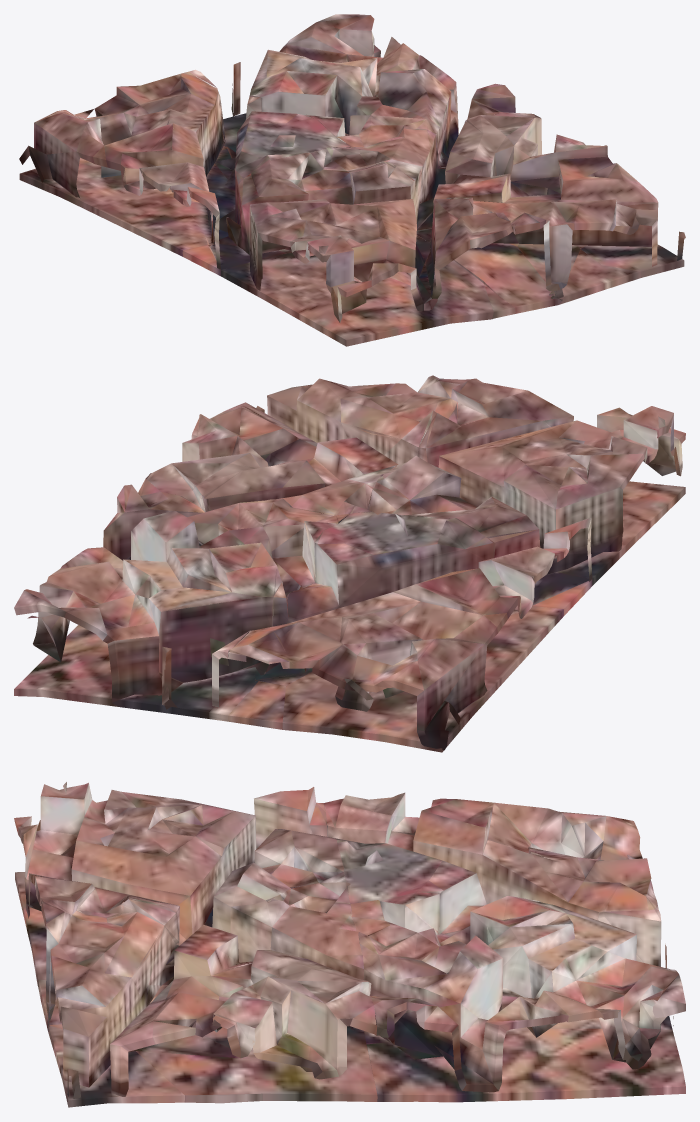
3 views of the same model, one above another, from view 1: azimuth 30°, elevation 25°; view 2: azimuth 150°, elevation 25°; view 3: azimuth 270°, elevation 25° (orthographic). The views are drawn at different scales.
Visible parts, largest first — view 1: Mesh_0; view 2: Mesh_0; view 3: Mesh_0.
Part boxes in pixels (x1,y1,x2,y2): Mesh_0: [19, 14, 685, 346]; Mesh_0: [14, 375, 685, 752]; Mesh_0: [14, 782, 685, 1107].
Size of the model in its own units: 136 by 38.01 by 165.
Materials: 1 (1 with a texture image).
